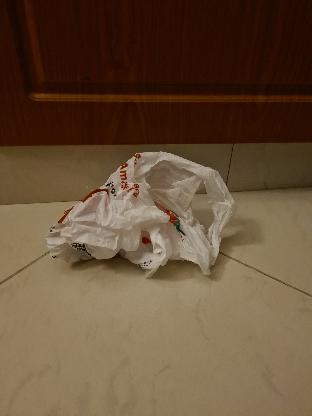Plastic Bag: (46, 154, 238, 281)
